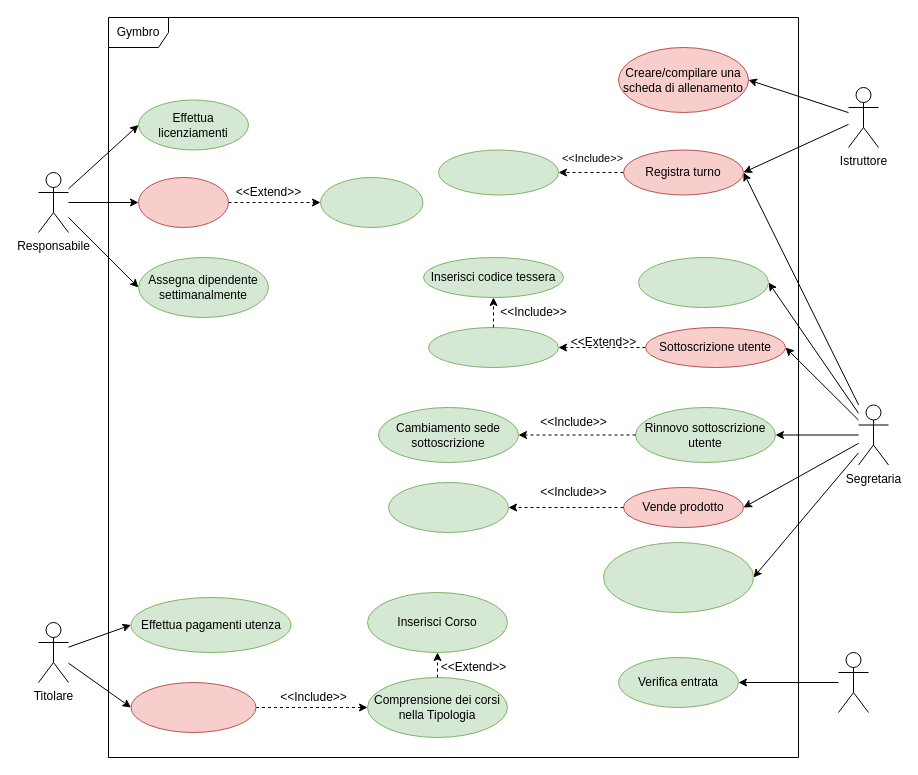
This 918x775 diagram has some shape labels left out. The shapes that lost their labels are listed below. From the top down, each one's centre as x and y in pixels, then its label:
pixel 498 172: Registra uscita
pixel 183 202: Effettua assunzioni
pixel 371 202: Cambia sede
pixel 703 282: Prenotazione piscina
pixel 493 347: Iscrizione utente
pixel 448 507: Creare scontrino
pixel 678 577: Visualizza sottoscrizioni scadute
pixel 853 682: Utente
pixel 193 707: Creazione tipologia abbonamento
